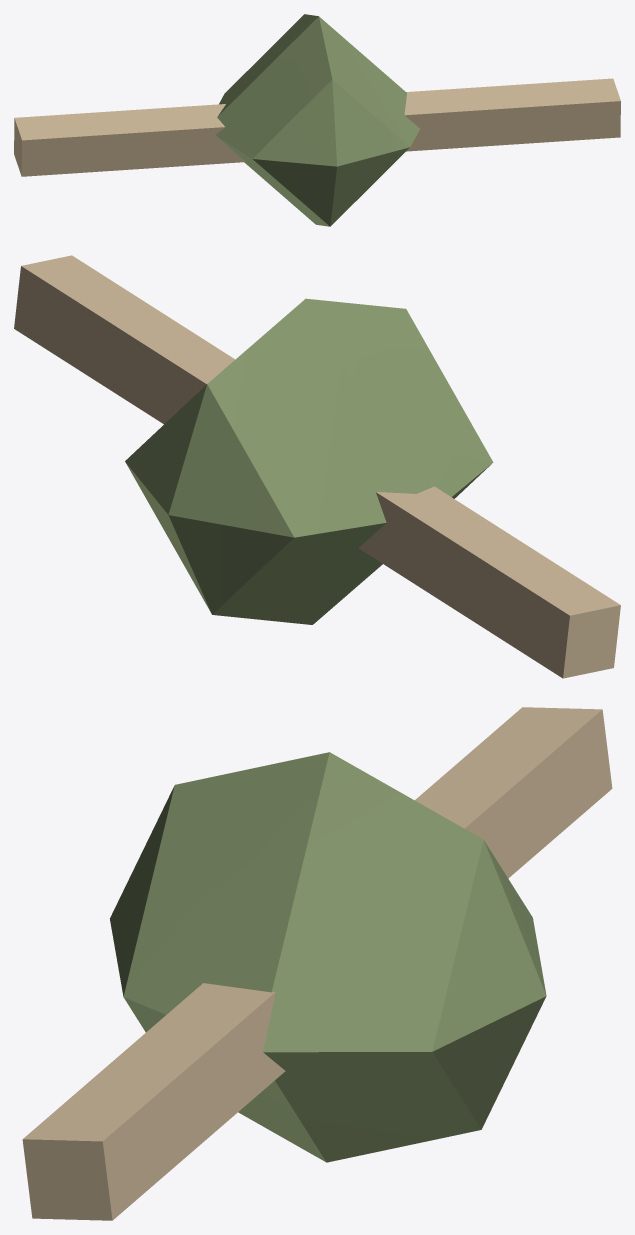
The model's file is SM_Prop_Cocktail_Olive_01.obj.
The picture shows the model from 3 angles, top to bottom: view 1: azimuth 30°, elevation 25°; view 2: azimuth 150°, elevation 25°; view 3: azimuth 270°, elevation 25°; orthographic projection. The views are drawn at different scales.
Parts seen in each view (by area): view 1: SM_Prop_Cocktail_Olive_01_0; view 2: SM_Prop_Cocktail_Olive_01_0; view 3: SM_Prop_Cocktail_Olive_01_0.
Part boxes in pixels (x1,y1,x2,y2): SM_Prop_Cocktail_Olive_01_0: (14,14,620,226); SM_Prop_Cocktail_Olive_01_0: (14,255,620,678); SM_Prop_Cocktail_Olive_01_0: (22,707,612,1220).
Size of the model in its own units: 0.1012 by 0.041 by 0.053.
1 material, 1 textured.
